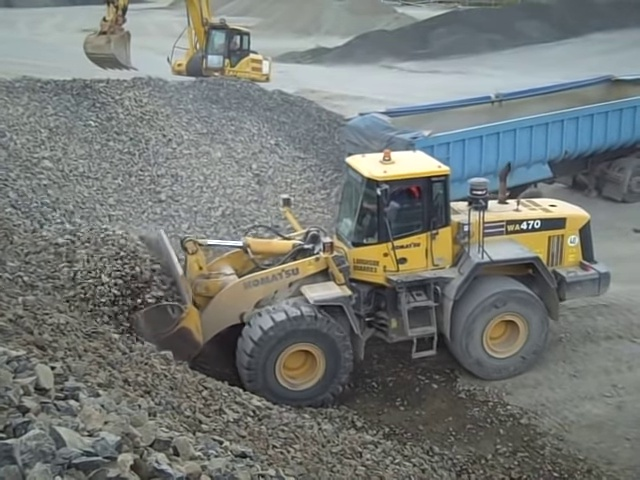excavator: (84, 1, 271, 89)
truck: (344, 70, 640, 210)
wheel loader: (132, 151, 609, 407)
